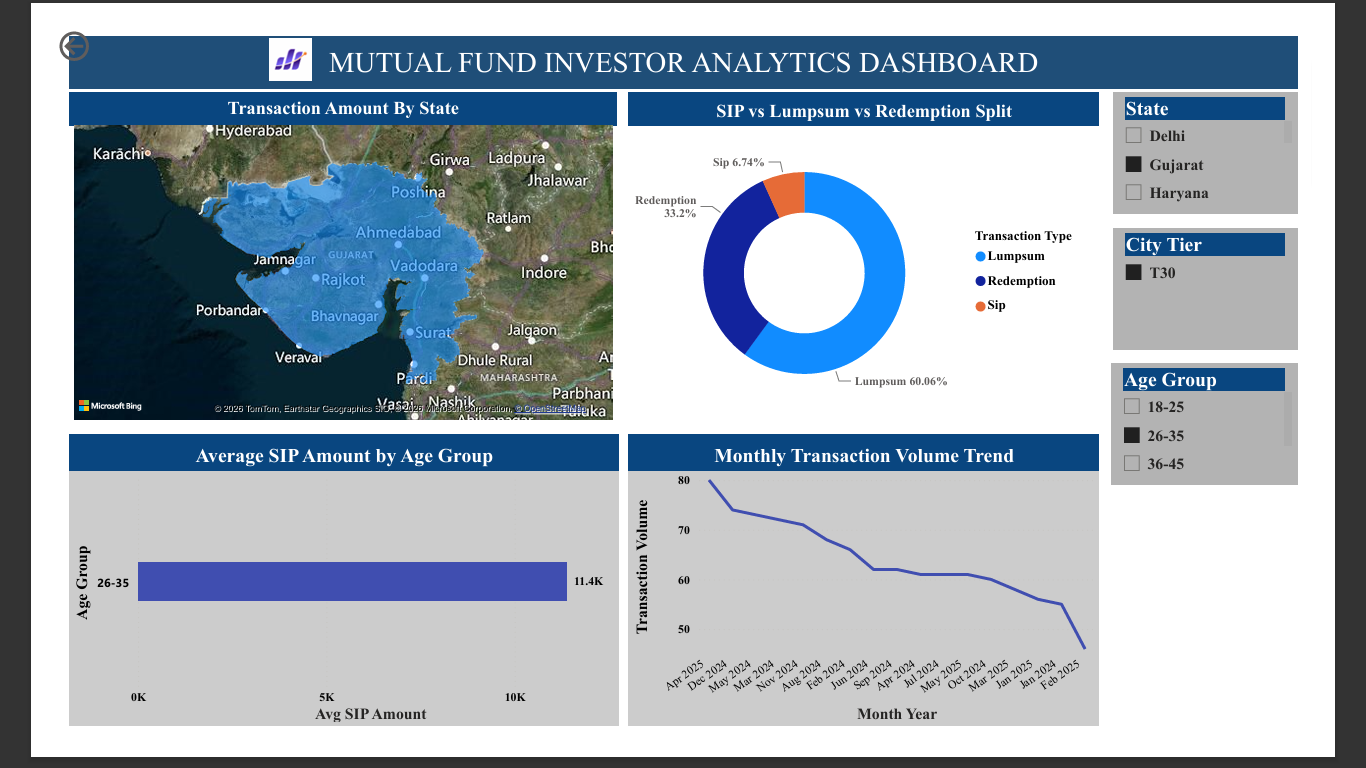

This screenshot's page, from the dashboard's own definition file:
{"tool":"powerbi","page":{"name":"Investor Analytics","canvas":[1280,720],"ordinal":2},"visuals":[{"type":"slicer","fields":{"Values":["investor_transactions_clean.state"]},"box":[1077.6,67.2,188.1,123.9],"z":0},{"type":"slicer","fields":{"Values":["investor_transactions_clean.city_tier"]},"box":[1077.6,206,188.1,123.9],"z":1000},{"type":"slicer","fields":{"Values":["investor_transactions_clean.age_group"]},"box":[1076.1,343.3,189.6,123.9],"z":2000},{"type":"textbox","box":[20.6,268.4,187.2,38.5],"z":3000},{"type":"textbox","box":[20.6,483.1,187.2,95],"z":4000},{"type":"textbox","box":[20.6,12.4,1249.7,55.1],"z":5000},{"type":"textbox","box":[750.1,53.7,189.9,37.2],"z":6000},{"type":"textbox","title":"MUTUAL FUND INVESTOR ANALYTICS DASHBOARD","box":[15.1,9.6,1251.1,57.8],"z":7000},{"type":"filledMap","title":"Transaction Amount By State","fields":{"Category":["investor_transactions_clean.state"]},"box":[14.9,67.2,558.2,338.8],"z":8000},{"type":"donutChart","title":"SIP vs Lumpsum vs Redemption Split ","fields":{"Category":["investor_transactions_clean.transaction_type"],"Y":["Sum(investor_transactions_clean.amount_inr)"]},"box":[585.1,67.2,479.1,338.8],"z":9000},{"type":"clusteredBarChart","title":"Average SIP Amount by Age Group","fields":{"Category":["investor_transactions_clean.age_group"],"Y":["investor_transactions_clean.Avg SIP Amount"]},"box":[14.9,416.4,559.7,297],"z":10000},{"type":"lineChart","title":"Monthly Transaction Volume Trend","fields":{"Category":["investor_transactions_clean.Month Year"],"Y":["investor_transactions_clean.Transaction Volume"]},"box":[585.1,416.4,479.1,297],"z":11000},{"type":"actionButton","box":[0,0,100,40],"z":12000},{"type":"image","box":[207.6,12,65.7,43.3],"z":13000}]}

Visuals, with their boxes in screenshot pixels (x1, y1, x2, y2), scaled from the page's 1280x720 canvas onto the 1366x768 screenshot:
slicer - investor_transactions_clean.state: detection(1150, 72, 1351, 204)
slicer - investor_transactions_clean.city_tier: detection(1150, 220, 1351, 352)
slicer - investor_transactions_clean.age_group: detection(1148, 366, 1351, 498)
textbox: detection(22, 286, 222, 327)
textbox: detection(22, 515, 222, 617)
textbox: detection(22, 13, 1356, 72)
textbox: detection(800, 57, 1003, 97)
"MUTUAL FUND INVESTOR ANALYTICS DASHBOARD" textbox: detection(16, 10, 1351, 72)
"Transaction Amount By State" filledMap: detection(16, 72, 612, 433)
"SIP vs Lumpsum vs Redemption Split " donutChart: detection(624, 72, 1136, 433)
"Average SIP Amount by Age Group" clusteredBarChart: detection(16, 444, 613, 761)
"Monthly Transaction Volume Trend" lineChart: detection(624, 444, 1136, 761)
actionButton: detection(0, 0, 107, 43)
image: detection(222, 13, 292, 59)
